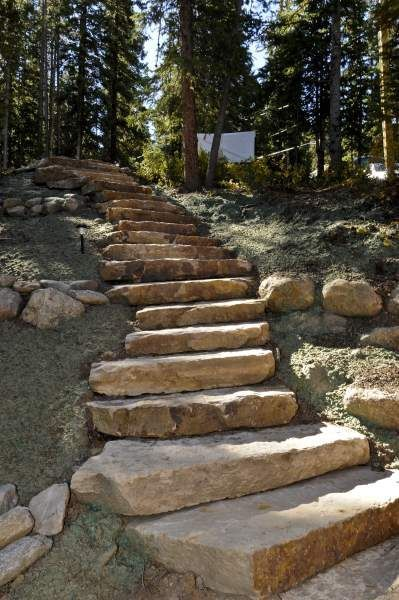upstairs: (130, 290, 260, 451)
